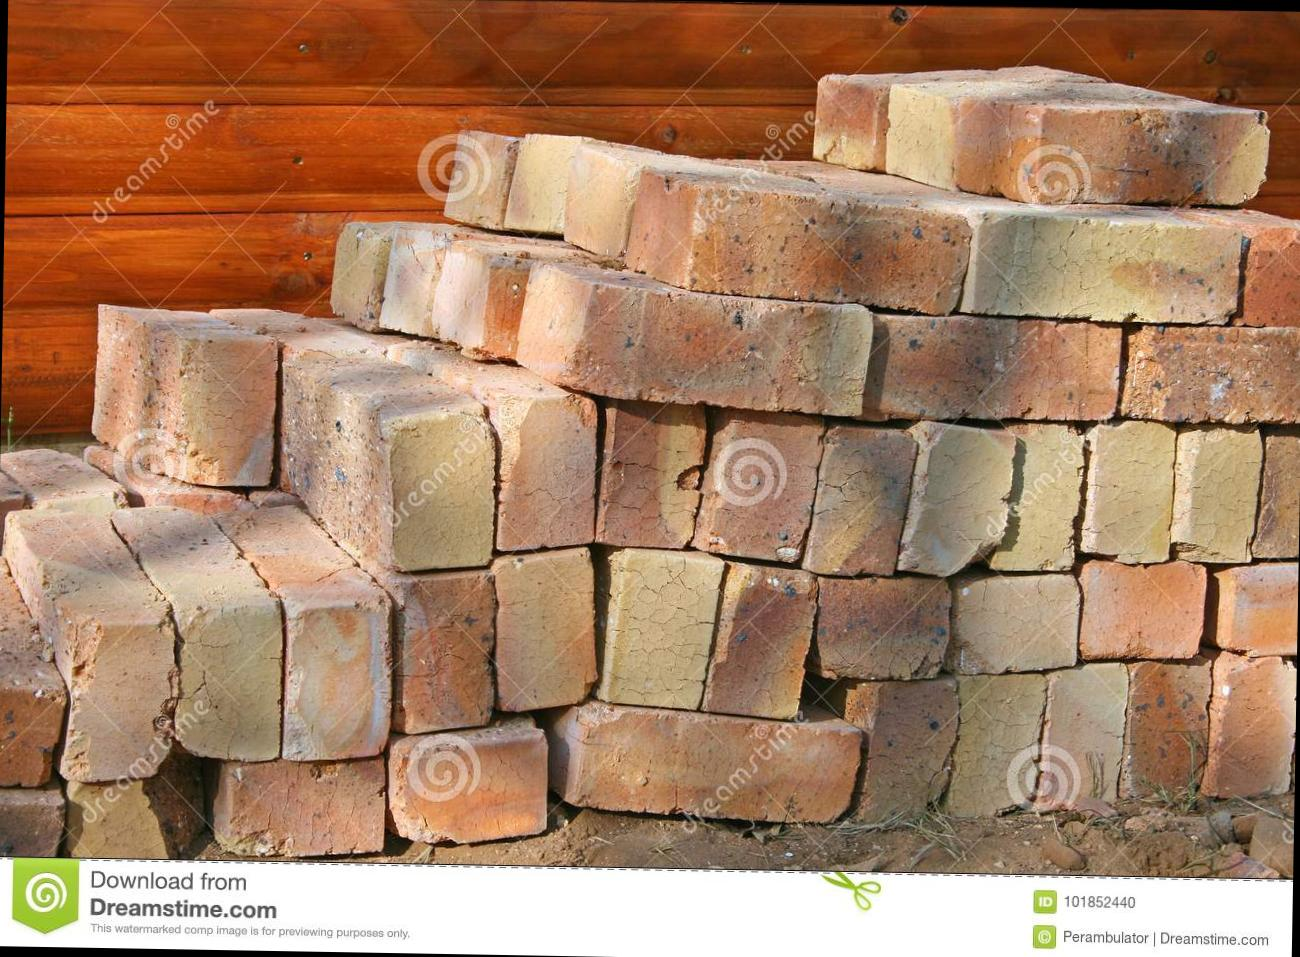brick: (558, 283, 872, 415), (686, 185, 972, 314), (574, 706, 861, 822), (964, 212, 1242, 323), (860, 313, 1121, 424), (1037, 107, 1269, 206), (604, 548, 724, 709), (62, 620, 178, 782), (389, 728, 546, 844), (1123, 322, 1300, 423), (492, 547, 600, 712), (284, 597, 392, 761), (698, 421, 825, 561), (803, 425, 918, 578), (902, 423, 1016, 577), (387, 410, 495, 572), (705, 565, 817, 720), (177, 599, 283, 759), (219, 755, 385, 857), (394, 570, 495, 734), (496, 392, 598, 549), (595, 409, 706, 549), (1032, 661, 1129, 815), (181, 335, 278, 487), (946, 672, 1047, 816), (814, 576, 953, 679), (1201, 650, 1298, 797), (992, 422, 1084, 571), (862, 678, 958, 819), (1081, 420, 1175, 562), (955, 572, 1081, 675), (1120, 661, 1212, 799), (1080, 561, 1206, 658), (1173, 429, 1261, 562), (67, 781, 170, 858), (1222, 561, 1299, 654), (0, 687, 66, 786), (1241, 224, 1300, 327), (1251, 434, 1300, 555), (0, 802, 63, 859)
